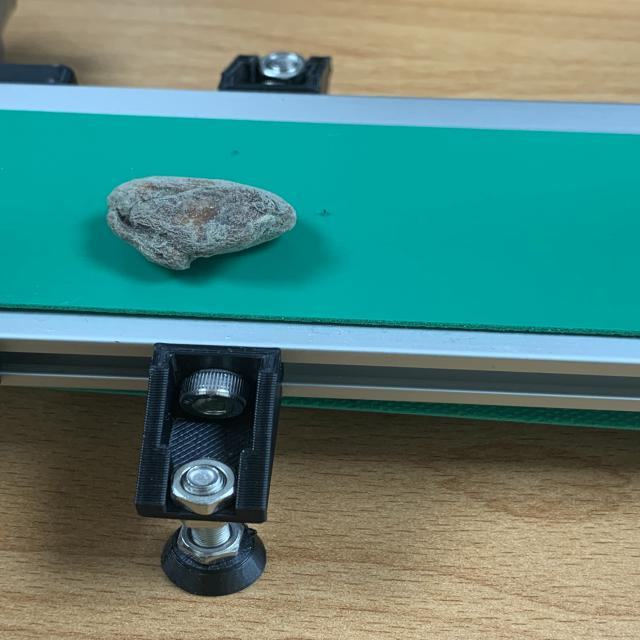Agglomerated_cocoabeans: (55, 154, 362, 309)
